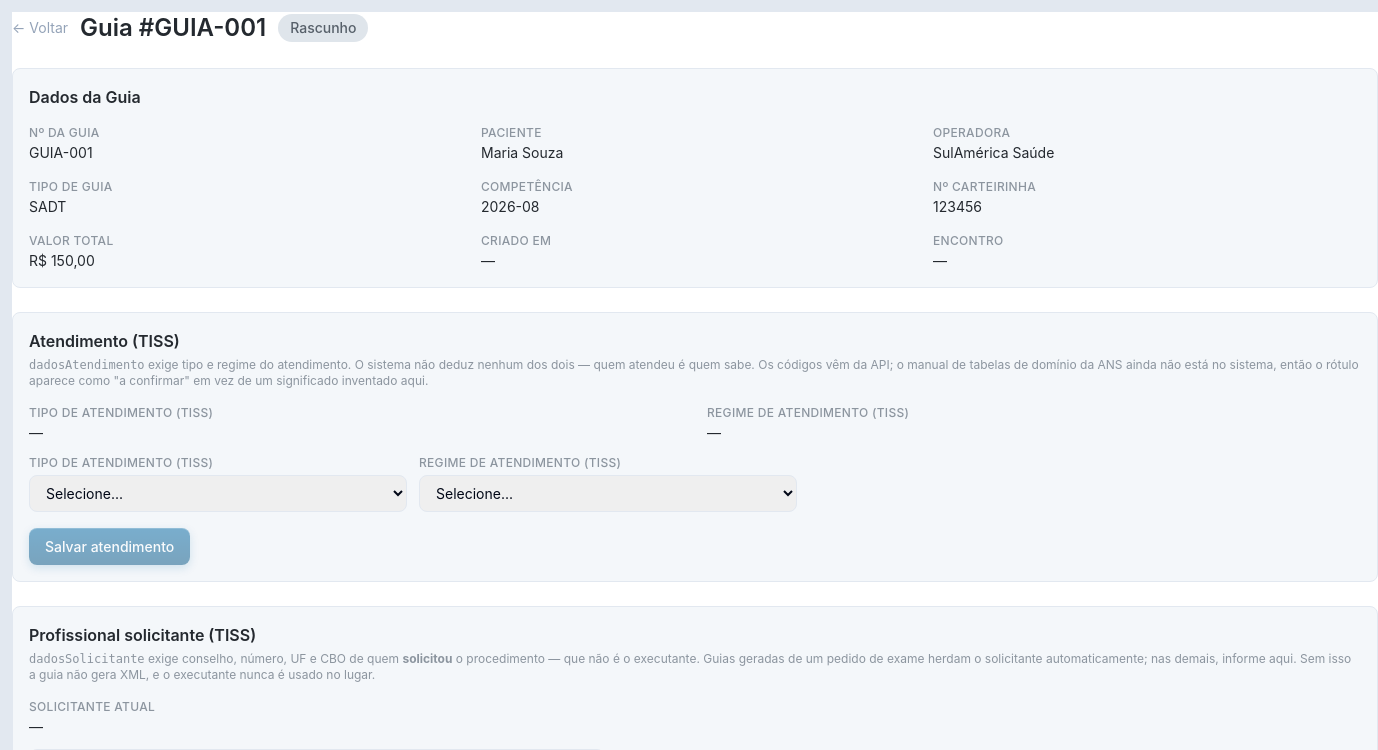
Test case: GuideDetailPage — atendimento (SP/SADT) › blocks the save until BOTH fields are chosen
Check: the heading "Atendimento (TISS)" is shown, box x1=29 y1=331 x2=180 y2=351
Check: the button "Salvar atendimento" is disabled, box x1=29 y1=528 x2=190 y2=565
Select "Código 04 (rótulo a confirmar no manual ANS)" in the dropdown labelled "Tipo de atendimento (TISS)" at coordinates (218, 494), box x1=29 y1=475 x2=407 y2=512
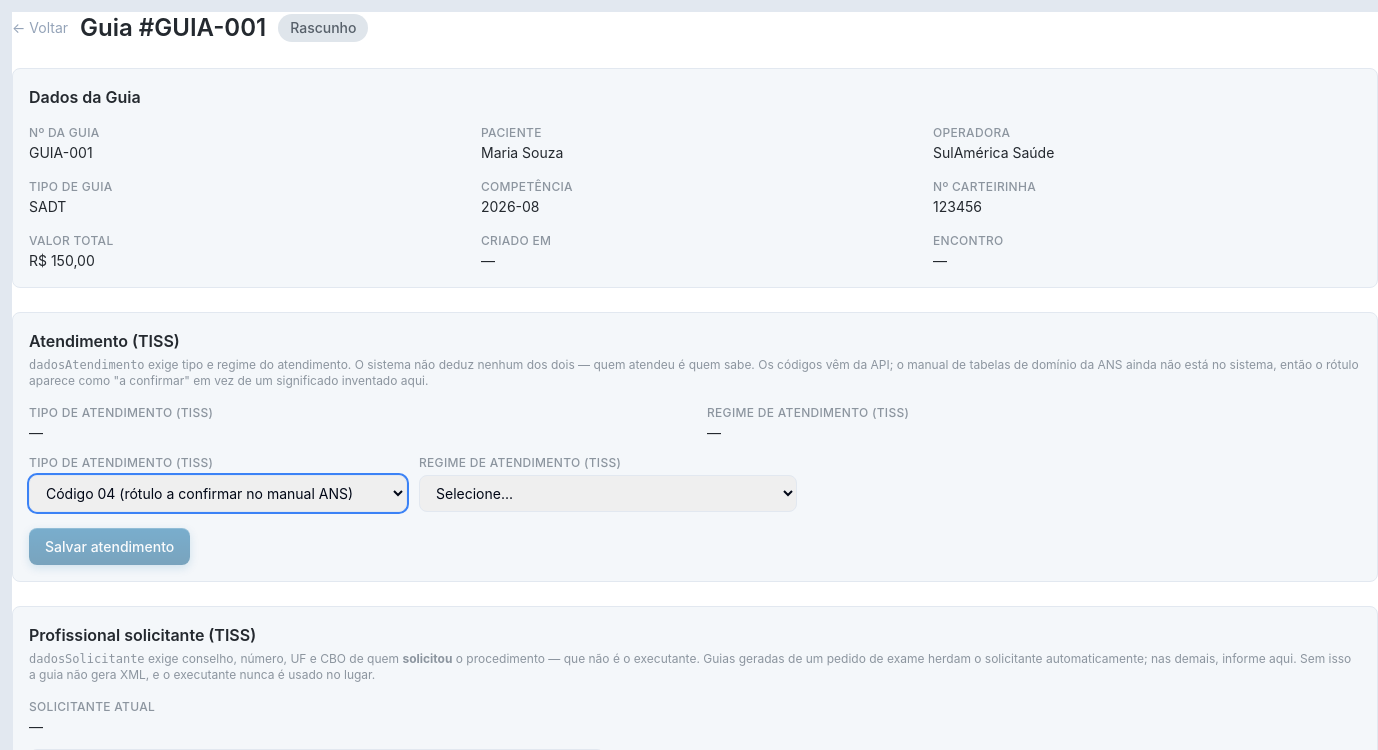
Check: the button "Salvar atendimento" is disabled, box x1=29 y1=528 x2=190 y2=565
Select "Código 01 (rótulo a confirmar no manual ANS)" in the dropdown labelled "Regime de atendimento (TISS)" at coordinates (608, 494), box x1=419 y1=475 x2=797 y2=512
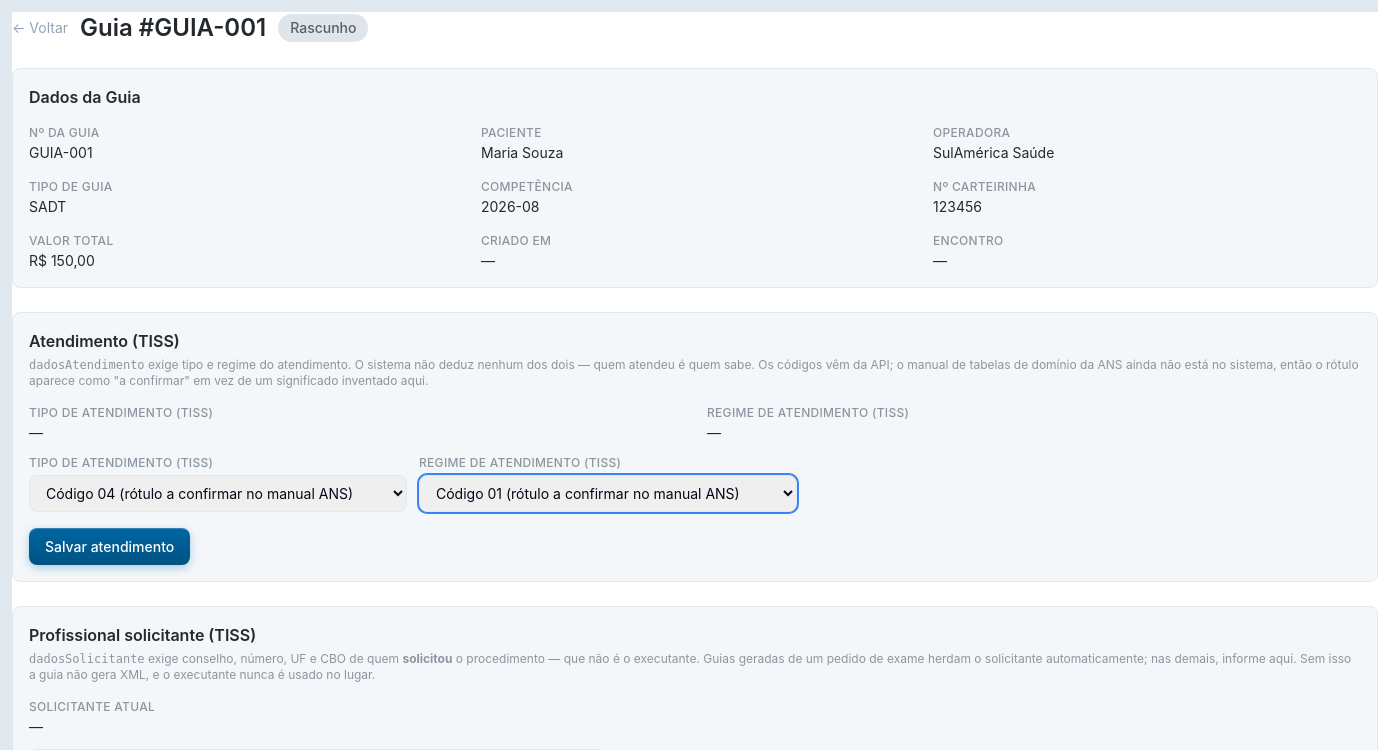
Check: the button "Salvar atendimento" is enabled, box x1=29 y1=528 x2=190 y2=565
